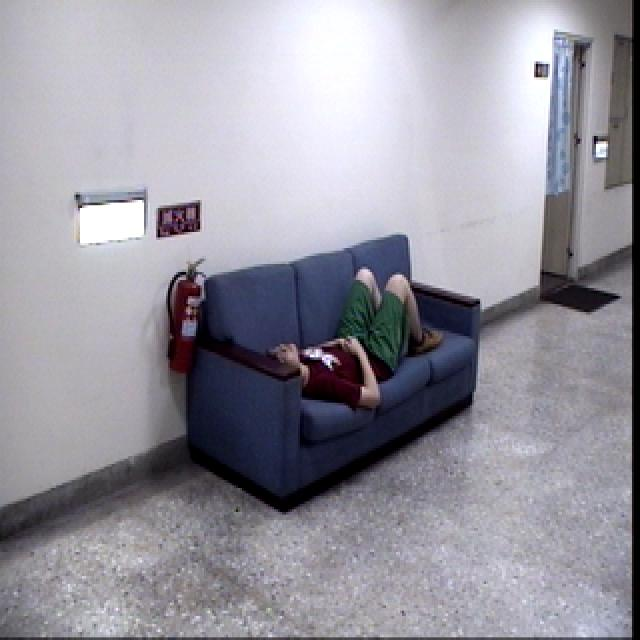lie: (265, 260, 449, 417)
